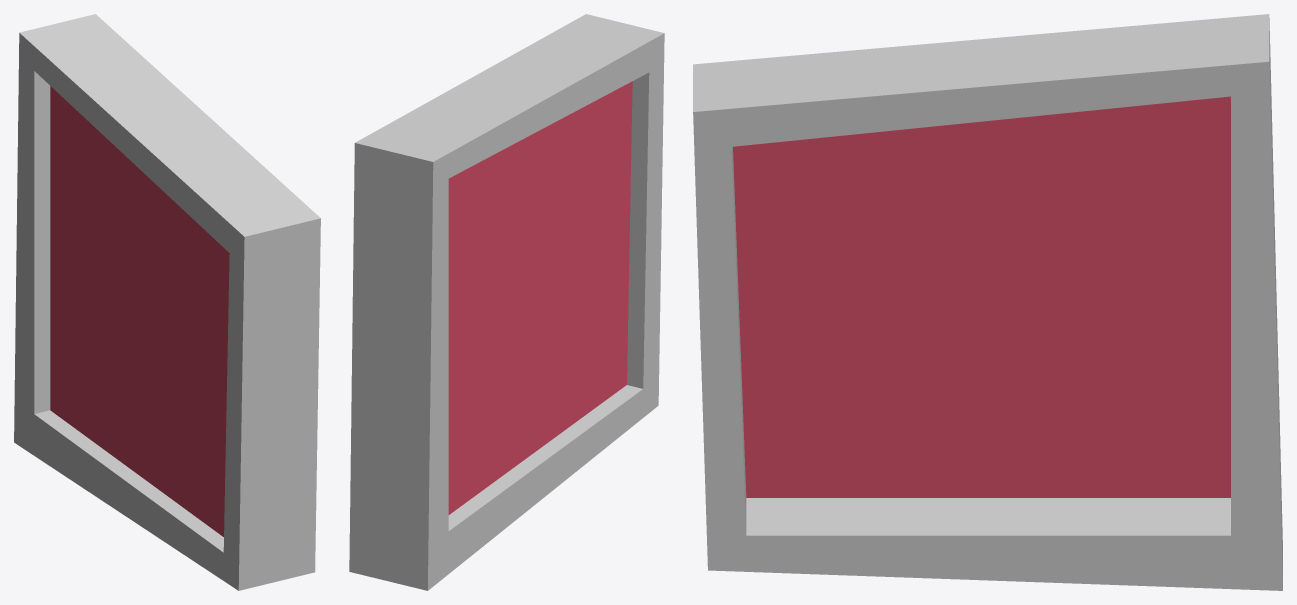
The model's file is MS_Frame3.fbx.
The picture shows the model from 3 angles, left to right: view 1: azimuth 30°, elevation 25°; view 2: azimuth 150°, elevation 25°; view 3: azimuth 270°, elevation 25°; orthographic projection. The views are drawn at different scales.
Parts seen in each view (by area): view 1: Plane.005; view 2: Plane.005; view 3: Plane.005.
Part boxes in pixels (bbox=[...]): Plane.005: bbox=[14, 14, 320, 590]; Plane.005: bbox=[349, 14, 664, 590]; Plane.005: bbox=[693, 14, 1282, 590].
Size of the model in its own units: 13.44 by 69.53 by 70.22.
